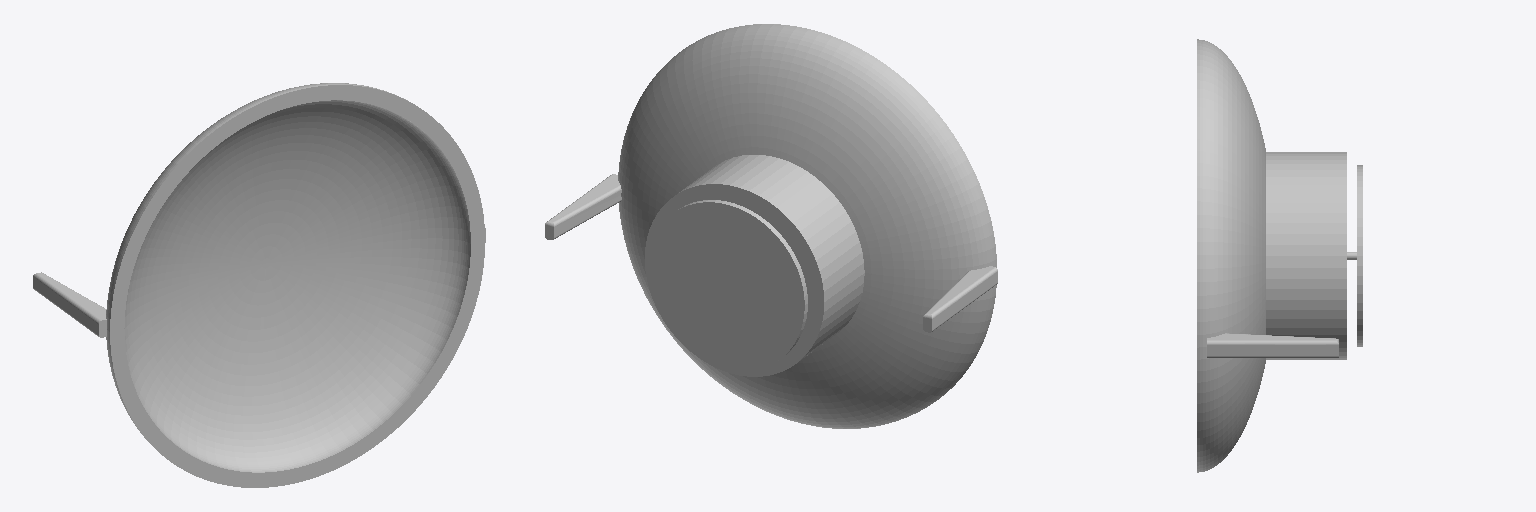
The model's file is part_dips_medium.obj.
3 renders of one model, left to right at view 1: azimuth 30°, elevation 25°; view 2: azimuth 150°, elevation 25°; view 3: azimuth 270°, elevation 25°, orthographic.
Visible parts, largest first — view 1: mesh32, mesh33, mesh34, mesh12, mesh21; view 2: mesh34, mesh28, mesh30, mesh31, mesh27, mesh12, mesh8, mesh9, mesh21; view 3: mesh34, mesh30, mesh0, mesh27, mesh4.
Part boxes in pixels (bbox=[...]): mesh32: bbox=[124, 100, 470, 472]; mesh33: bbox=[110, 85, 484, 487]; mesh34: bbox=[106, 83, 407, 438]; mesh12: bbox=[33, 277, 98, 334]; mesh21: bbox=[38, 273, 106, 319]; mesh34: bbox=[618, 24, 996, 428]; mesh28: bbox=[648, 202, 804, 370]; mesh30: bbox=[679, 155, 864, 360]; mesh31: bbox=[645, 184, 823, 376]; mesh27: bbox=[678, 200, 807, 360]; mesh12: bbox=[932, 272, 997, 329]; mesh8: bbox=[554, 190, 621, 237]; mesh9: bbox=[551, 174, 619, 221]; mesh21: bbox=[928, 266, 993, 313]; mesh34: bbox=[1197, 39, 1265, 472]; mesh30: bbox=[1266, 152, 1346, 359]; mesh0: bbox=[1207, 345, 1338, 355]; mesh27: bbox=[1357, 165, 1362, 346]; mesh4: bbox=[1207, 340, 1338, 344].
Size of the model in its own units: 0.2479 by 0.24 by 0.0924.